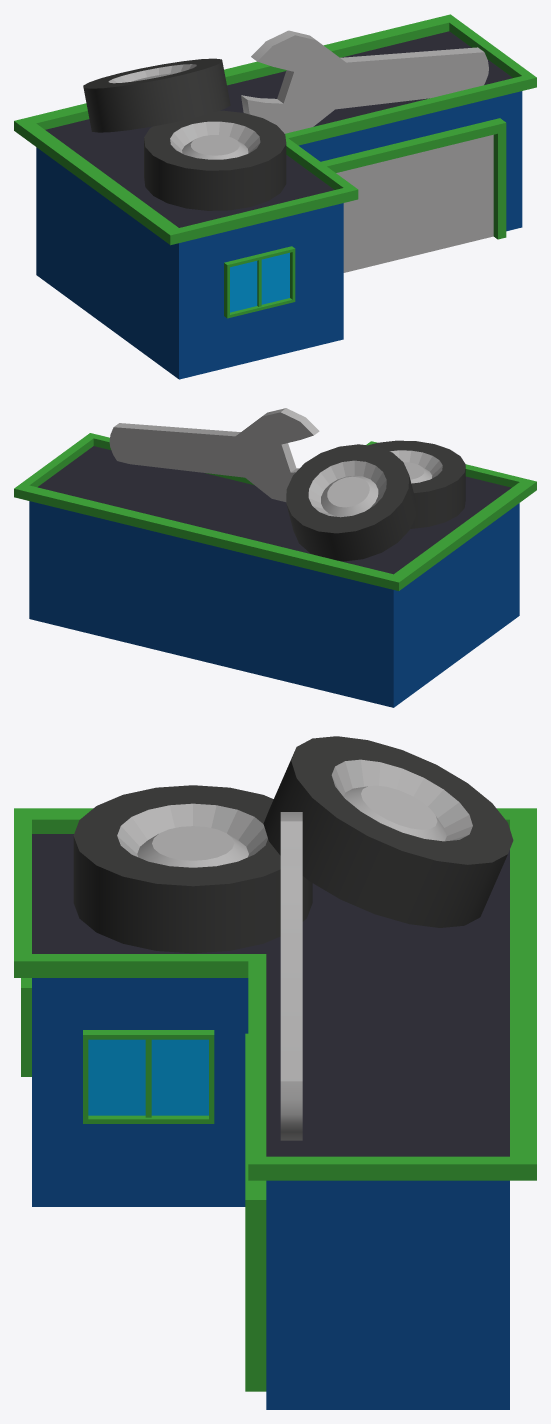
The model's file is Building_11.fbx.
3 renders of one model, top to bottom at view 1: azimuth 30°, elevation 25°; view 2: azimuth 150°, elevation 25°; view 3: azimuth 270°, elevation 25°, orthographic. The views are drawn at different scales.
Parts seen in each view (by area): view 1: B11; view 2: B11; view 3: B11.
Part boxes in pixels (box(x1,y1,x2,y2)): B11: box(14, 14, 536, 379); B11: box(14, 408, 536, 707); B11: box(14, 736, 536, 1409).
Size of the model in its own units: 25.69 by 13.69 by 15.95.
1 material, 1 textured.
